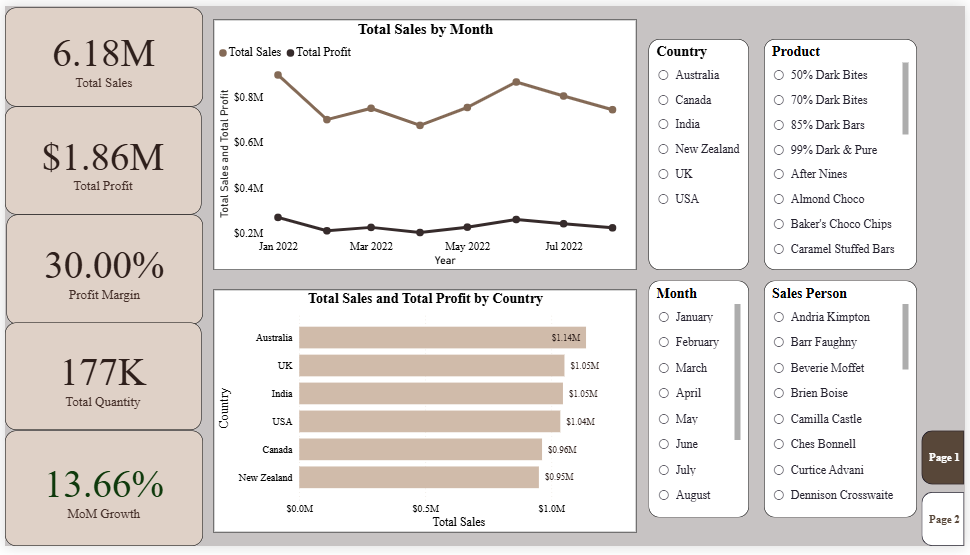

What the dashboard file says about the page in this screenshot:
{"tool":"powerbi","page":{"name":"Page 1","canvas":[1280,720],"ordinal":0},"visuals":[{"type":"card","fields":{"Values":["Chocolate Sales.Total Profit"]},"box":[0,134,262,144],"z":0},{"type":"card","fields":{"Values":["Chocolate Sales.MoM Growth"]},"box":[0,566,264,154],"z":3000},{"type":"lineChart","title":"Total Sales by Month","fields":{"Y":["Chocolate Sales.Total Sales","Chocolate Sales.Total Profit"],"Category":["Chocolate Sales.Date.Variation.Date Hierarchy.Year","Chocolate Sales.Date.Variation.Date Hierarchy.Month"]},"box":[278,18,564,334],"z":4000},{"type":"card","fields":{"Values":["Chocolate Sales.Total Sales"]},"box":[0,2,264,132],"z":5000},{"type":"clusteredBarChart","fields":{"Category":["Chocolate Sales.Country"],"Y":["Chocolate Sales.Total Sales"]},"box":[278,378,564,324],"z":6000},{"type":"listSlicer","fields":{"Values":["Chocolate Sales.Date.Variation.Date Hierarchy.Month"]},"box":[858,366,134,316],"z":7000},{"type":"listSlicer","fields":{"Values":["Chocolate Sales.Country"]},"box":[858,44,134,308],"z":8000},{"type":"listSlicer","fields":{"Values":["Chocolate Sales.Product"]},"box":[1012,44,204,308],"z":9000},{"type":"listSlicer","fields":{"Values":["Chocolate Sales.Sales Person"]},"box":[1012,366,204,316],"z":10000},{"type":"pageNavigator","box":[1222.5,565.8,57.5,154.2],"z":13000},{"type":"card","fields":{"Values":["Chocolate Sales.Profit Margin"]},"box":[1.6,278.1,261.9,146.4],"z":13001},{"type":"card","fields":{"Values":["Chocolate Sales.Total Quantity"]},"box":[0,422.9,261.9,143.1],"z":13002}]}

Visuals, with their boxes in screenshot pixels (x1, y1, x2, y2), scaled from the page's 1280x720 canvas onto the 970x555 screenshot:
card - Chocolate Sales.Total Profit: 0/103/199/214
card - Chocolate Sales.MoM Growth: 0/436/200/554
"Total Sales by Month" lineChart: 211/14/638/271
card - Chocolate Sales.Total Sales: 0/2/200/103
clusteredBarChart - Chocolate Sales.Country x Chocolate Sales.Total Sales: 211/291/638/541
listSlicer - Chocolate Sales.Date.Variation.Date Hierarchy.Month: 650/282/752/526
listSlicer - Chocolate Sales.Country: 650/34/752/271
listSlicer - Chocolate Sales.Product: 767/34/922/271
listSlicer - Chocolate Sales.Sales Person: 767/282/922/526
pageNavigator: 926/436/969/554
card - Chocolate Sales.Profit Margin: 1/214/200/327
card - Chocolate Sales.Total Quantity: 0/326/198/436
